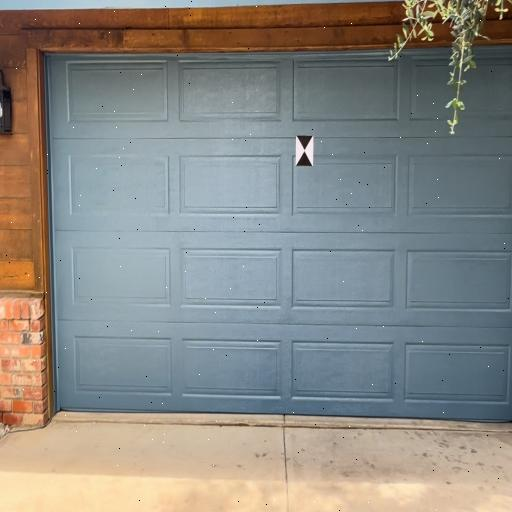target: (296, 135, 313, 167)
